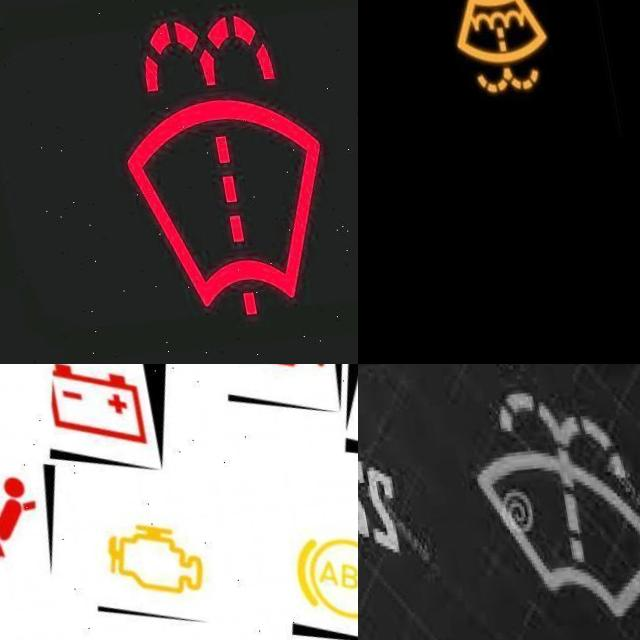Washer Fluid: (95, 16, 331, 324), (447, 390, 640, 635), (436, 0, 545, 103)
